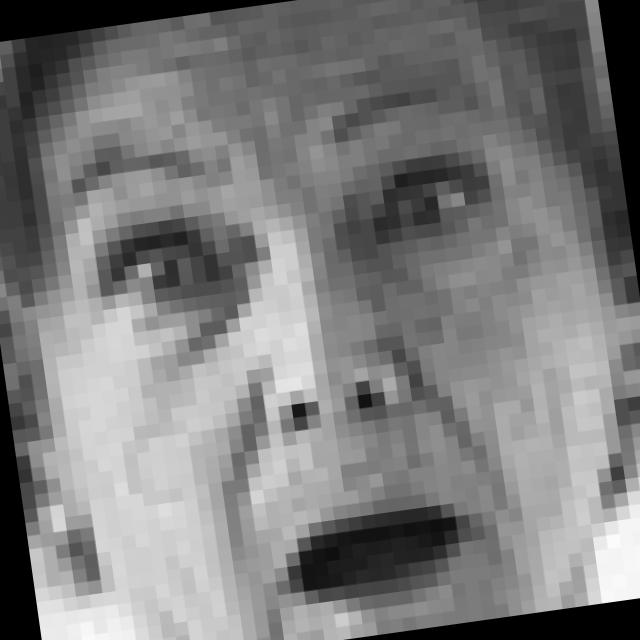surprise: (47, 65, 576, 640)
